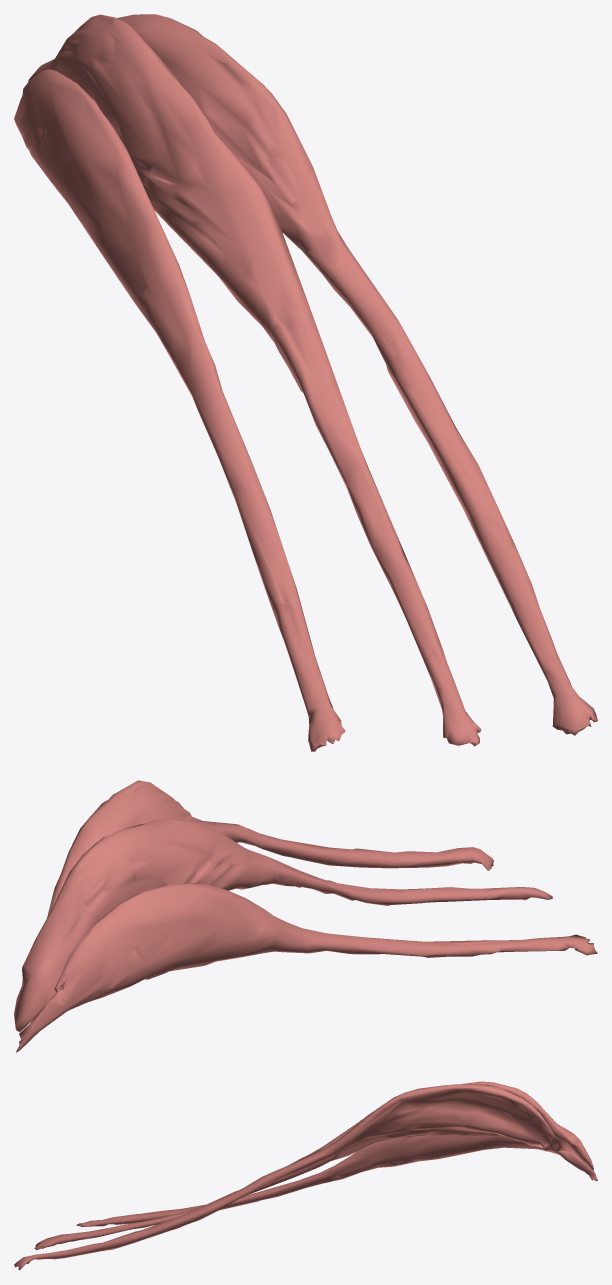
3 renders of one model, top to bottom at view 1: azimuth 30°, elevation 25°; view 2: azimuth 150°, elevation 25°; view 3: azimuth 270°, elevation 25°, orthographic. The views are drawn at different scales.
Visible parts, largest first — view 1: ZA_ef8fe376d9623029; view 2: ZA_ef8fe376d9623029; view 3: ZA_ef8fe376d9623029.
Boxes of the visible parts, <box> form: ZA_ef8fe376d9623029: <box>14,14,597,751</box>; ZA_ef8fe376d9623029: <box>14,780,597,1052</box>; ZA_ef8fe376d9623029: <box>14,1081,597,1270</box>.
Size of the model in its own units: 0.0428 by 0.0587 by 0.1541.
